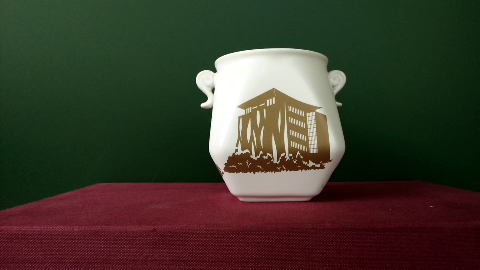library: (232, 94, 325, 168)
